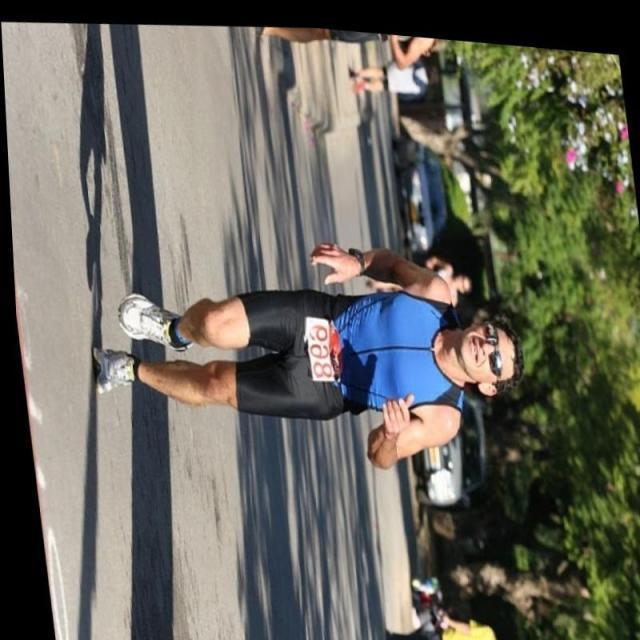dorsal: (293, 302, 342, 385)
